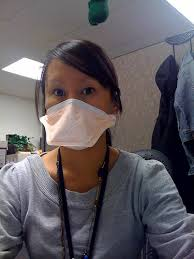n95: (32, 98, 117, 150)
